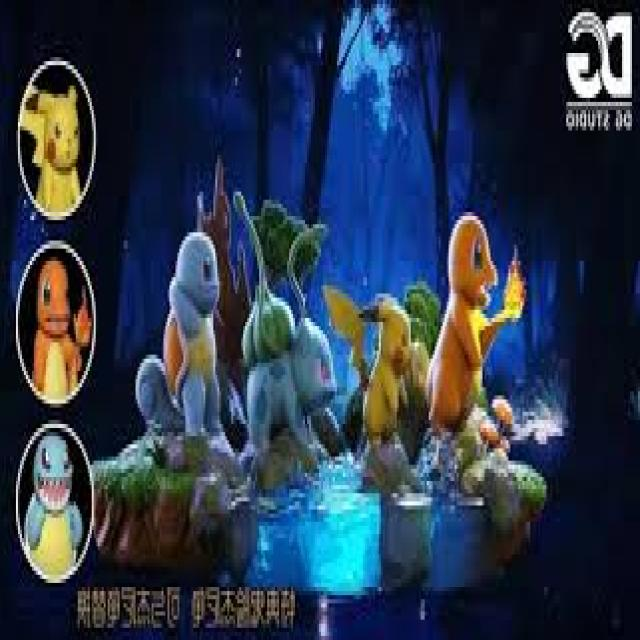Bulbasaur: (258, 310, 336, 440)
Charmander: (426, 210, 498, 421), (35, 256, 76, 396)
Pikachu: (360, 295, 413, 440), (40, 86, 81, 209)
Squirtle: (166, 226, 221, 406), (26, 434, 78, 577)
